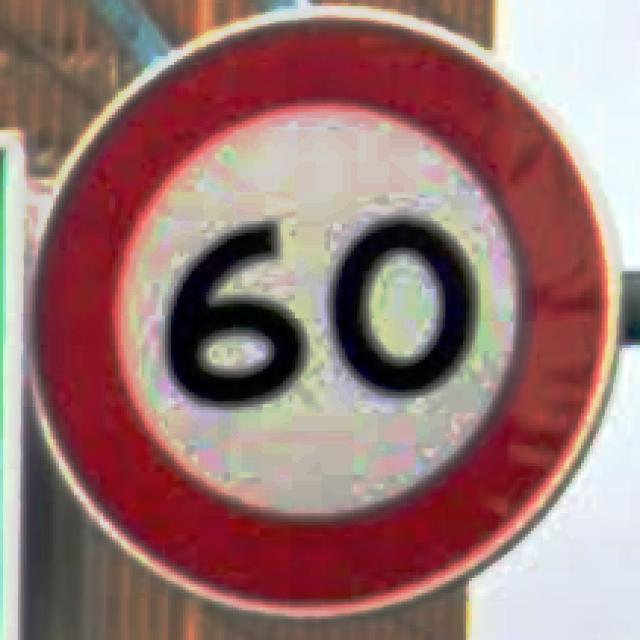max60: (27, 3, 625, 619)
